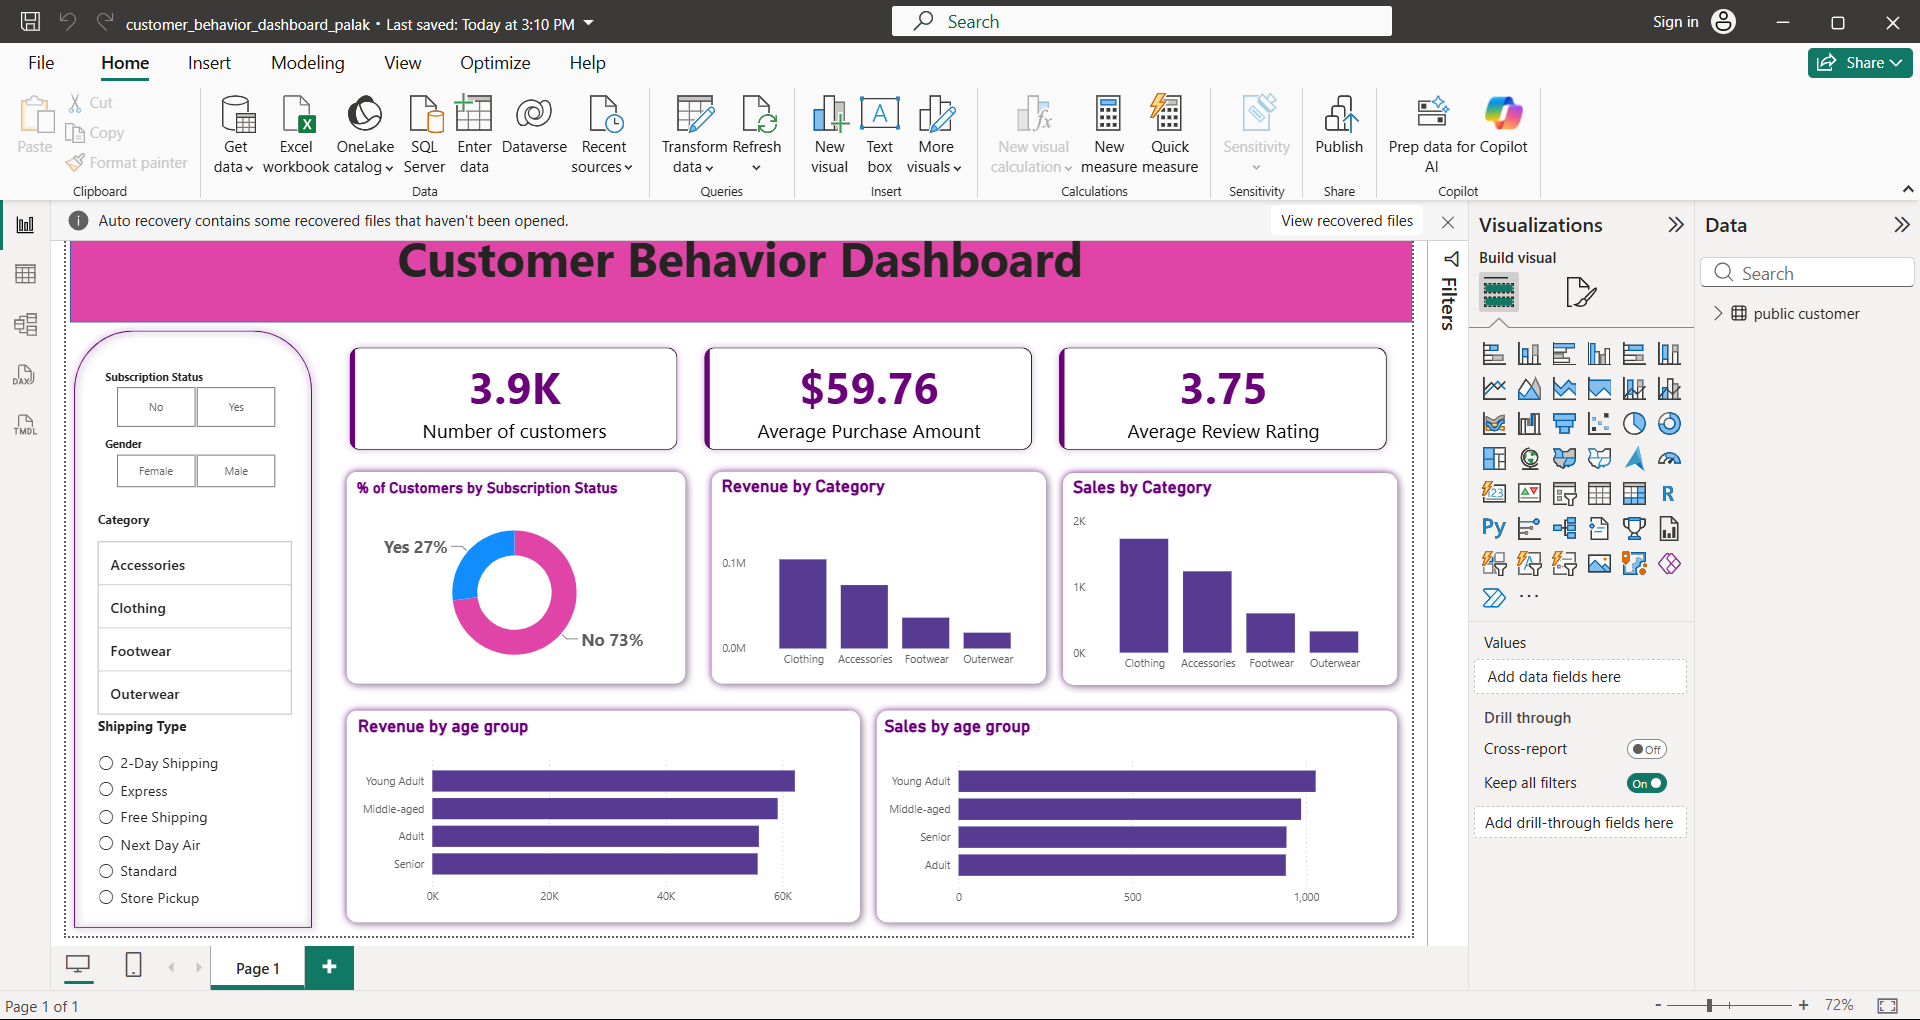

The dashboard page shown, as its layout file describes it:
{"tool":"powerbi","page":{"name":"Page 1","canvas":[1500,820],"ordinal":0},"visuals":[{"type":"cardVisual","fields":{"Data":["public customer.Number of customers","public customer.Average Purchase Amount","public customer.Average Review Rating"]},"box":[287.8,136.7,1212.5,170.5],"z":0},{"type":"shape","box":[4.8,11.3,1495.5,125.4],"z":1000},{"type":"textbox","box":[4.1,575,1276.2,12.3],"z":2000},{"type":"textbox","box":[223.5,24.1,1056.5,91.7],"z":3000},{"type":"shape","box":[303.9,294.3,395.6,254.1],"z":4000},{"type":"donutChart","title":"% of Customers by Subscription Status","fields":{"Category":["public customer.subscription_status"],"Y":["CountNonNull(public customer.customer_id)"]},"box":[318.4,310.4,361.8,221.9],"z":5000},{"type":"shape","box":[710.8,294.3,390.8,254.1],"z":6000},{"type":"shape","box":[1101.1,295.2,390.8,254.1],"z":7000},{"type":"shape","box":[893.5,559.2,598.2,254.1],"z":7500},{"type":"clusteredColumnChart","title":"Revenue by Category","fields":{"Y":["Sum(public customer.purchase_amount)"],"Category":["public customer.category"]},"box":[725.5,308.2,361.8,221.9],"z":8000},{"type":"clusteredColumnChart","title":"Sales by Category","fields":{"Category":["public customer.category"],"Y":["CountNonNull(public customer.customer_id)"]},"box":[1117,309.2,358.6,225.1],"z":9000},{"type":"shape","box":[0,136.7,283,683.4],"z":10000},{"type":"slicer","fields":{"Values":["public customer.subscription_status"]},"box":[30.6,183.3,226.7,75.6],"z":11000},{"type":"slicer","fields":{"Values":["public customer.gender"]},"box":[30.6,258.9,226.7,67.5],"z":12000},{"type":"advancedSlicerVisual","title":"Category","fields":{"Values":["public customer.category"]},"box":[30.6,347.3,226.7,233.2],"z":13000},{"type":"listSlicer","fields":{"Values":["public customer.shipping_type"]},"box":[30.6,575.7,226.7,220.3],"z":14000},{"type":"clusteredBarChart","title":"Sales by age  group","fields":{"Category":["public customer.age_group"],"Y":["CountNonNull(public customer.customer_id)"]},"box":[906.5,575.5,572.5,220.3],"z":15000},{"type":"shape","box":[303.9,559.6,590.2,254.1],"z":16000},{"type":"clusteredBarChart","title":"Revenue by age  group","fields":{"Category":["public customer.age_group"],"Y":["Sum(public customer.purchase_amount)"]},"box":[320,575.7,558,218.7],"z":18000}]}

Visuals, with their boxes on the page's 1500x820 design canvas (x1, y1, x2, y2). These are canvas units, not pixel positions in the 1920x1020 screenshot, which may show the page scaled, cropped or inside an application window:
cardVisual - public customer.Number of customers x public customer.Average Purchase Amount: 288,137,1500,307
shape: 5,11,1500,137
textbox: 4,575,1280,587
textbox: 224,24,1280,116
shape: 304,294,700,548
"% of Customers by Subscription Status" donutChart: 318,310,680,532
shape: 711,294,1102,548
shape: 1101,295,1492,549
shape: 894,559,1492,813
"Revenue by Category" clusteredColumnChart: 726,308,1087,530
"Sales by Category" clusteredColumnChart: 1117,309,1476,534
shape: 0,137,283,820
slicer - public customer.subscription_status: 31,183,257,259
slicer - public customer.gender: 31,259,257,326
"Category" advancedSlicerVisual: 31,347,257,580
listSlicer - public customer.shipping_type: 31,576,257,796
"Sales by age  group" clusteredBarChart: 906,576,1479,796
shape: 304,560,894,814
"Revenue by age  group" clusteredBarChart: 320,576,878,794
